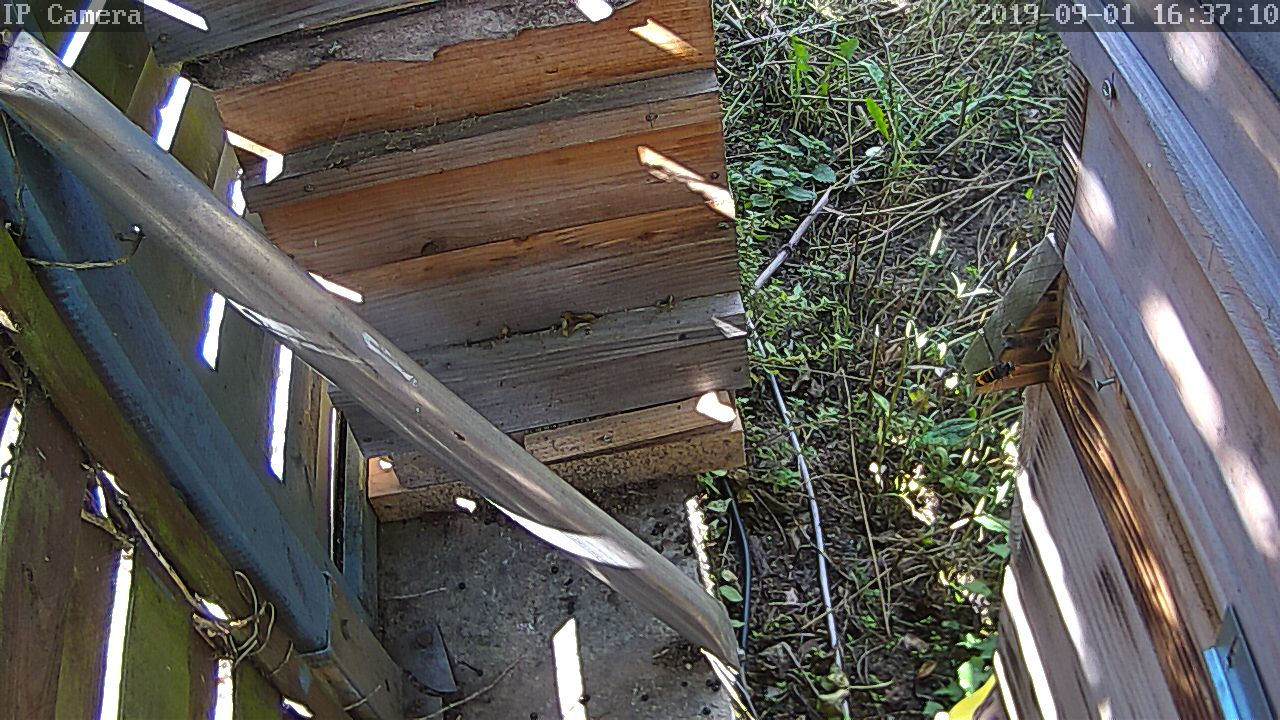hornet: (29, 0, 1258, 720)
